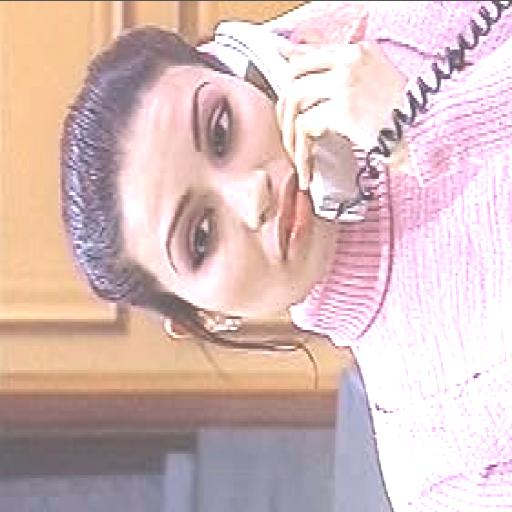Dalanda: (62, 28, 335, 332)
